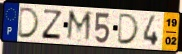4: (142, 14, 160, 47)
5: (93, 11, 112, 45)
D: (116, 12, 141, 45), (17, 6, 42, 39)
M: (65, 9, 93, 44)
Z: (40, 8, 64, 41)
